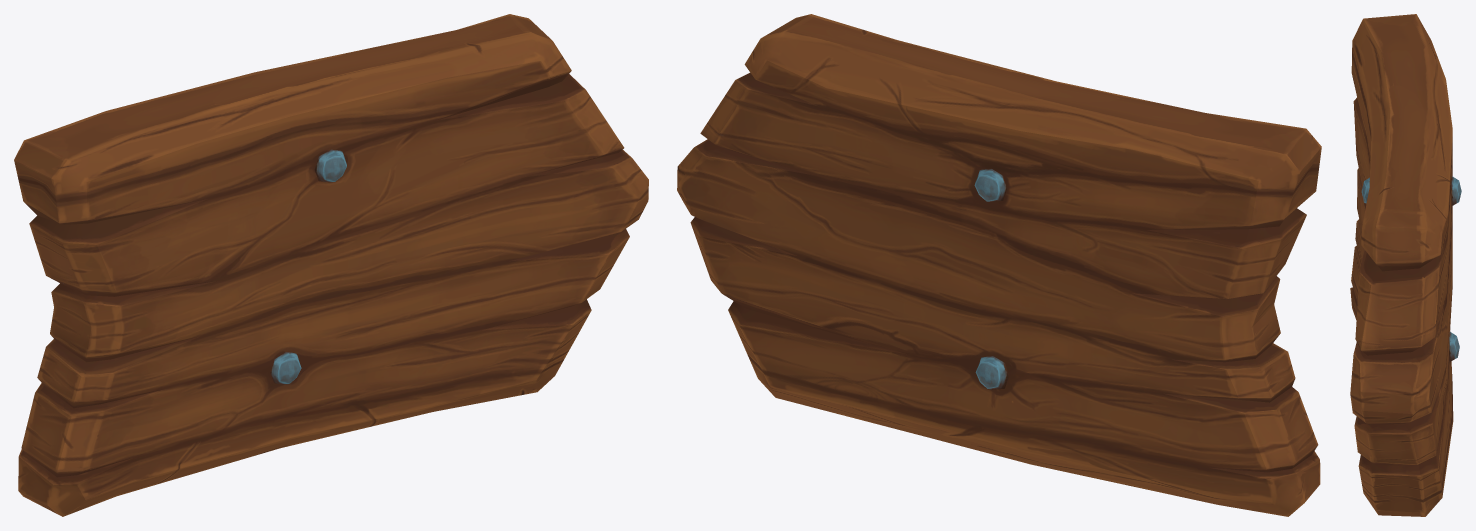
The model's file is handpainted_wooden_sign (1).glb.
3 renders of one model, left to right at view 1: azimuth 30°, elevation 25°; view 2: azimuth 150°, elevation 25°; view 3: azimuth 270°, elevation 25°, orthographic. The views are drawn at different scales.
Parts seen in each view (by area): view 1: pCube9; view 2: pCube9; view 3: pCube9.
Boxes of the visible parts, bbox=[...] form: pCube9: bbox=[14, 14, 648, 516]; pCube9: bbox=[677, 14, 1321, 516]; pCube9: bbox=[1350, 14, 1461, 516].
Size of the model in its own units: 27.44 by 15.4 by 5.14.
1 material, 1 textured.
